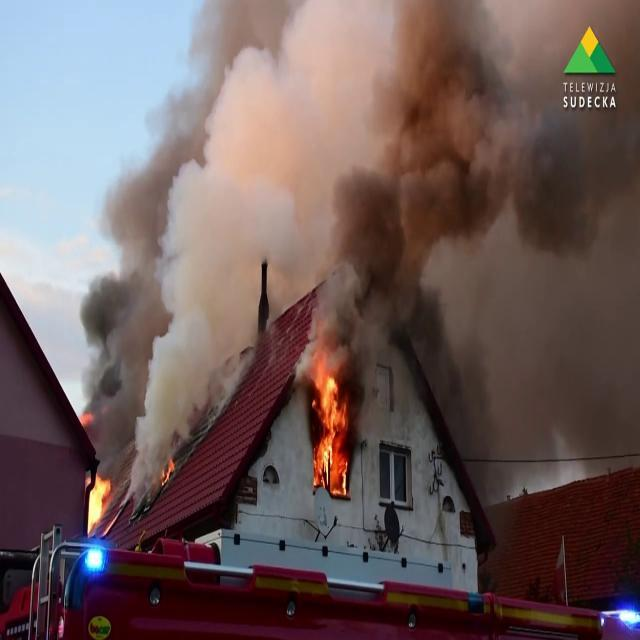Fire: (308, 359, 352, 494), (82, 468, 115, 576)
Smoke: (326, 0, 640, 474), (81, 1, 291, 470)
